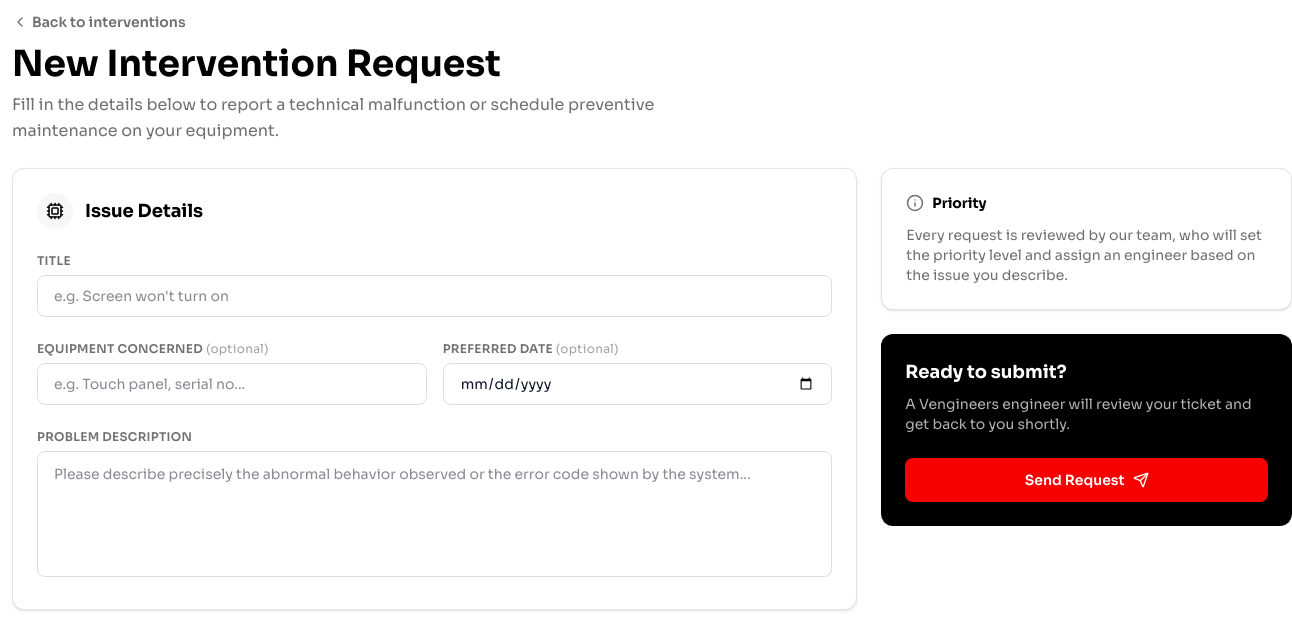
InterventionNew › disables the submit button and shows "Sending..." while submitting
The image size is (1292, 628).
Type "Test" into the field labelled "Title" at (435, 296), box [37, 275, 832, 317]
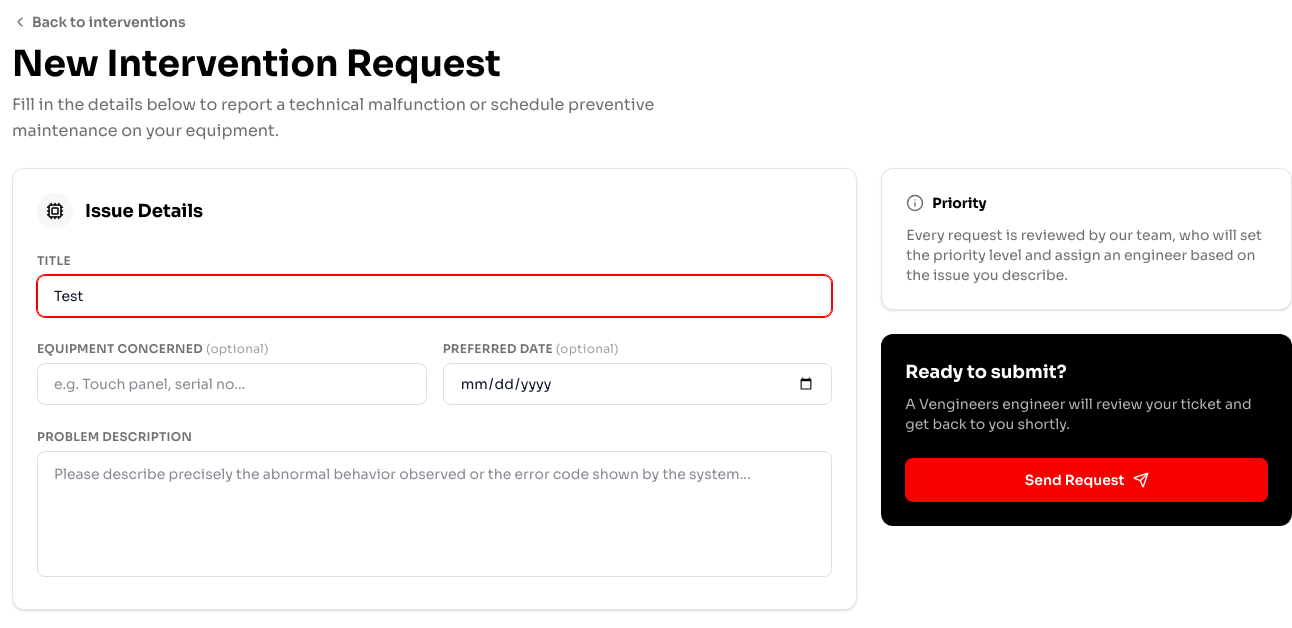
Type "Test" into the text box labelled "Problem Description" at (435, 514), box [37, 451, 832, 577]
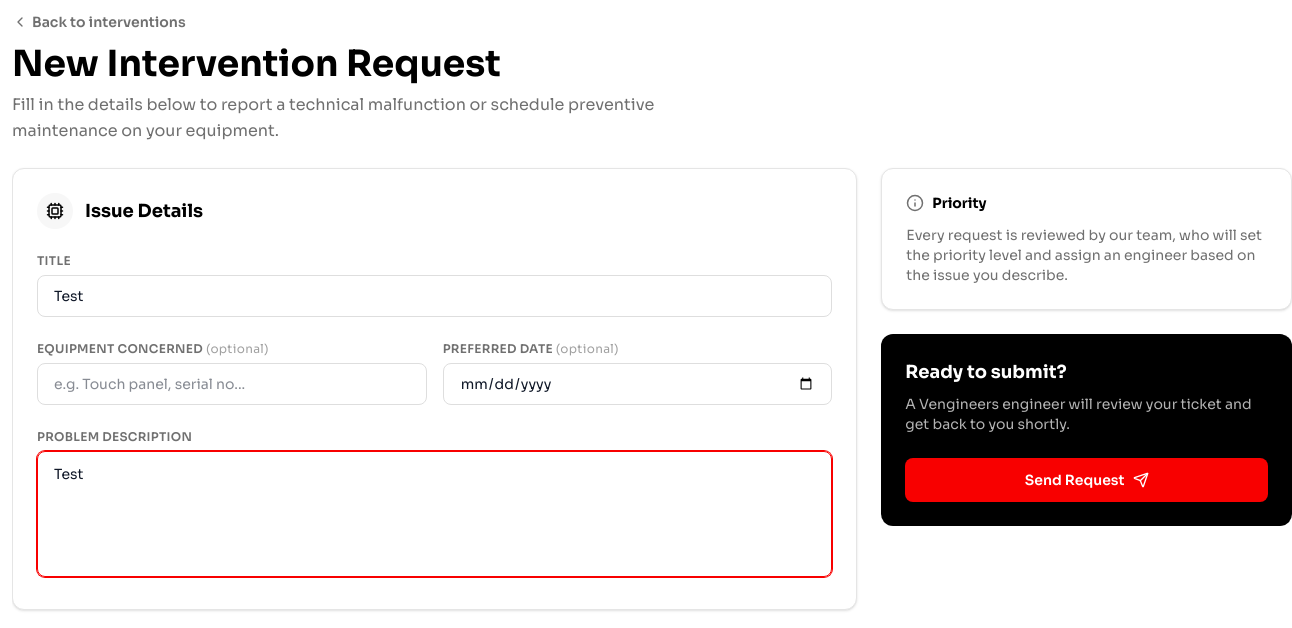
Click the button "Send Request" at (1087, 480), box [905, 458, 1268, 502]
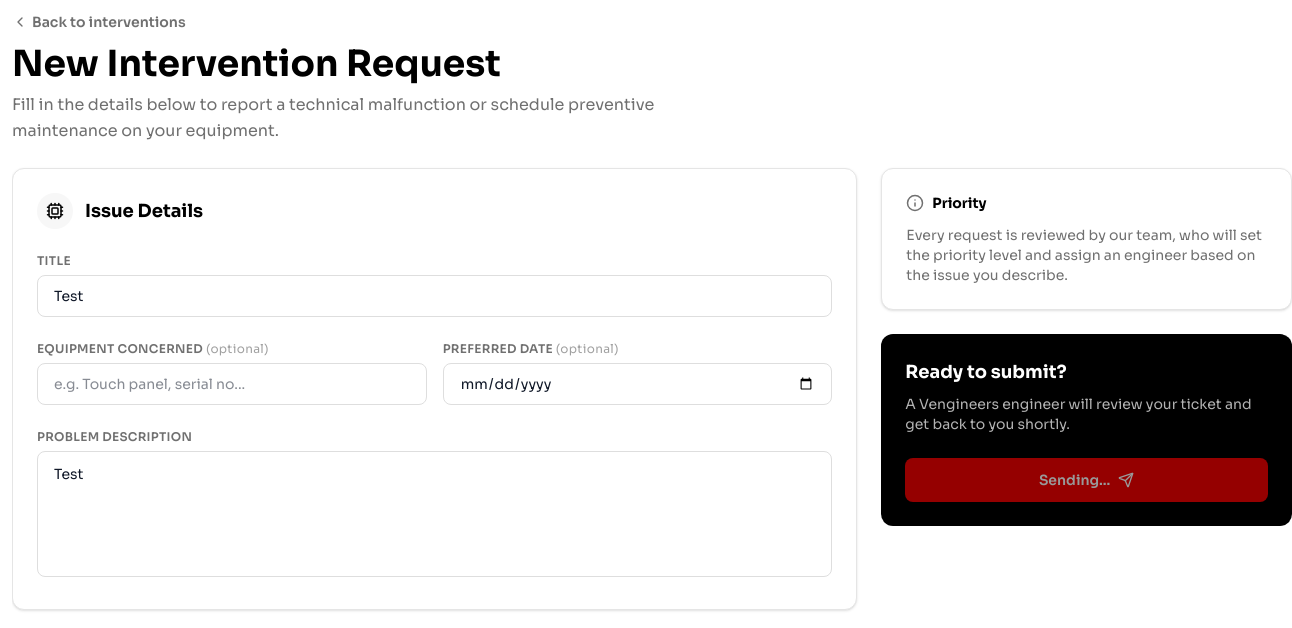
Expected: the button named "Send Request" is disabled, [905, 458, 1268, 502]
Expected: the button named "Send Request" reads "Sending...", [905, 458, 1268, 502]
